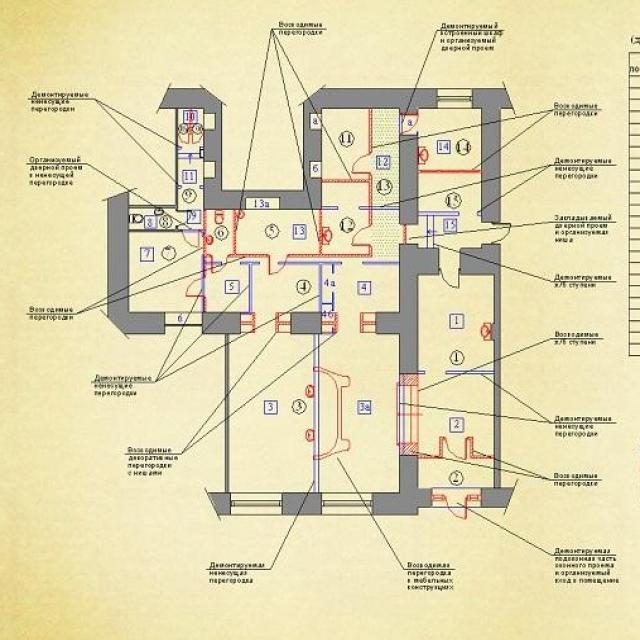Bathrooms: (419, 276, 494, 370), (419, 109, 481, 168), (323, 211, 368, 253), (208, 211, 232, 254), (130, 209, 176, 228)
Corridors: (421, 374, 494, 455), (322, 266, 399, 312), (253, 267, 318, 312), (418, 458, 494, 493), (374, 111, 398, 206), (419, 175, 481, 211), (208, 265, 248, 312), (373, 211, 402, 261), (323, 184, 368, 206), (179, 110, 214, 128), (209, 258, 373, 261), (177, 211, 203, 228), (179, 133, 203, 147)
Doors: (439, 248, 460, 290), (482, 221, 514, 245), (446, 493, 468, 522), (443, 436, 469, 459), (184, 275, 209, 297), (350, 226, 373, 248), (349, 153, 373, 174), (268, 253, 288, 277), (180, 229, 202, 249), (338, 313, 360, 333), (255, 313, 276, 333), (210, 253, 228, 275), (399, 115, 418, 133), (175, 211, 192, 229), (191, 128, 204, 146), (178, 127, 190, 146), (342, 260, 363, 267), (339, 205, 360, 211), (426, 370, 446, 375), (260, 261, 279, 266), (222, 262, 241, 266), (459, 212, 477, 216)
LBwalls: (158, 87, 437, 210), (106, 190, 165, 335), (376, 243, 440, 374), (473, 86, 514, 223), (374, 455, 431, 516), (399, 134, 419, 225), (460, 242, 502, 275), (283, 492, 320, 516), (202, 312, 241, 334), (481, 487, 517, 508), (291, 312, 322, 334), (205, 492, 230, 517)
Offices: (230, 335, 314, 492), (320, 335, 397, 492), (129, 235, 202, 311), (311, 109, 369, 178), (239, 211, 317, 252)
Stairs: (409, 216, 480, 248), (394, 374, 421, 456), (180, 148, 215, 210)
Walls: (469, 275, 502, 487), (129, 109, 191, 212), (287, 210, 373, 258), (322, 174, 399, 226), (314, 366, 353, 460), (279, 260, 343, 312), (226, 210, 269, 258), (241, 261, 260, 314), (224, 334, 229, 492), (314, 334, 319, 491), (418, 436, 443, 459), (321, 312, 338, 334), (419, 169, 481, 175), (359, 312, 376, 333), (276, 312, 290, 333), (241, 313, 255, 333), (203, 210, 207, 279), (129, 229, 181, 234), (418, 212, 460, 217), (445, 370, 494, 374), (362, 261, 400, 266), (369, 109, 373, 153), (465, 493, 481, 502), (432, 493, 447, 502), (402, 225, 407, 244), (322, 206, 339, 211), (202, 295, 207, 311), (208, 261, 222, 266), (418, 370, 426, 375), (478, 212, 482, 216)
Windows: (320, 492, 373, 516), (229, 492, 282, 516), (437, 87, 473, 109), (165, 311, 202, 327)
